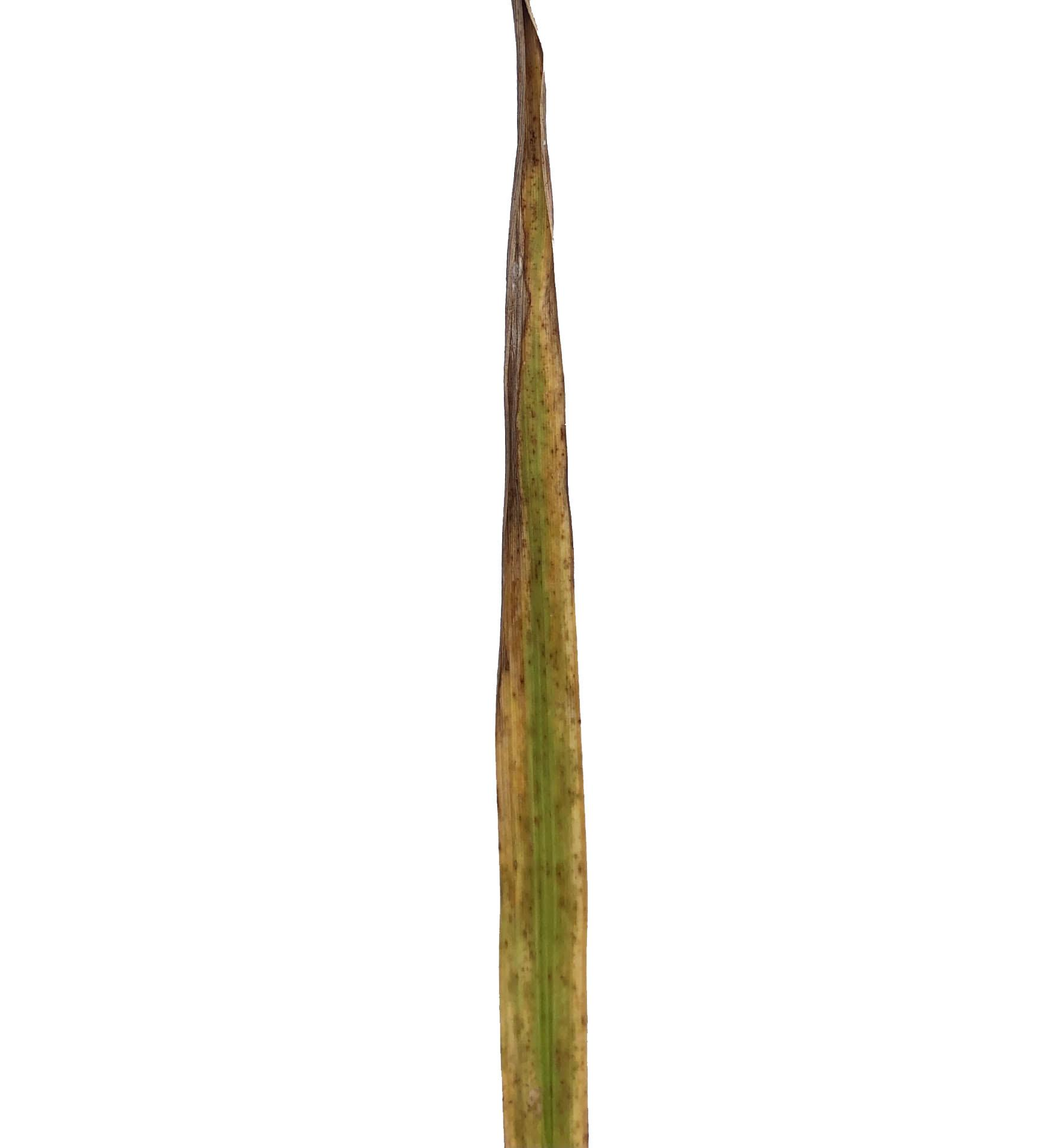Tungro: (494, 0, 591, 1148)
